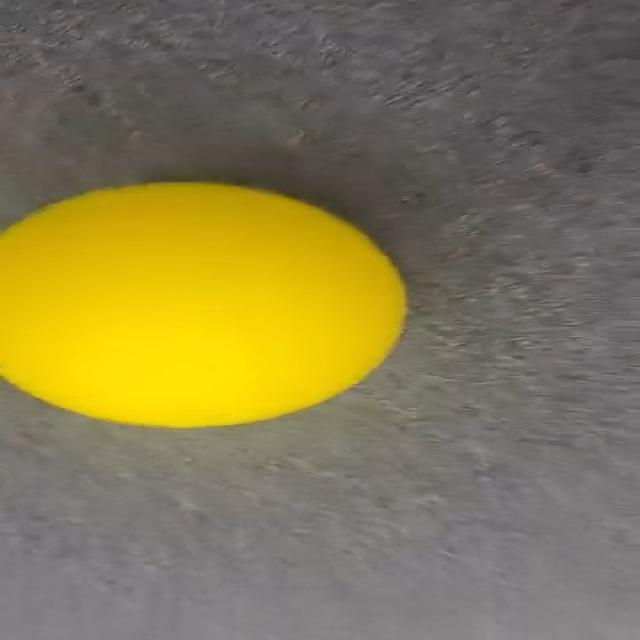Fuels: (0, 183, 402, 425)
